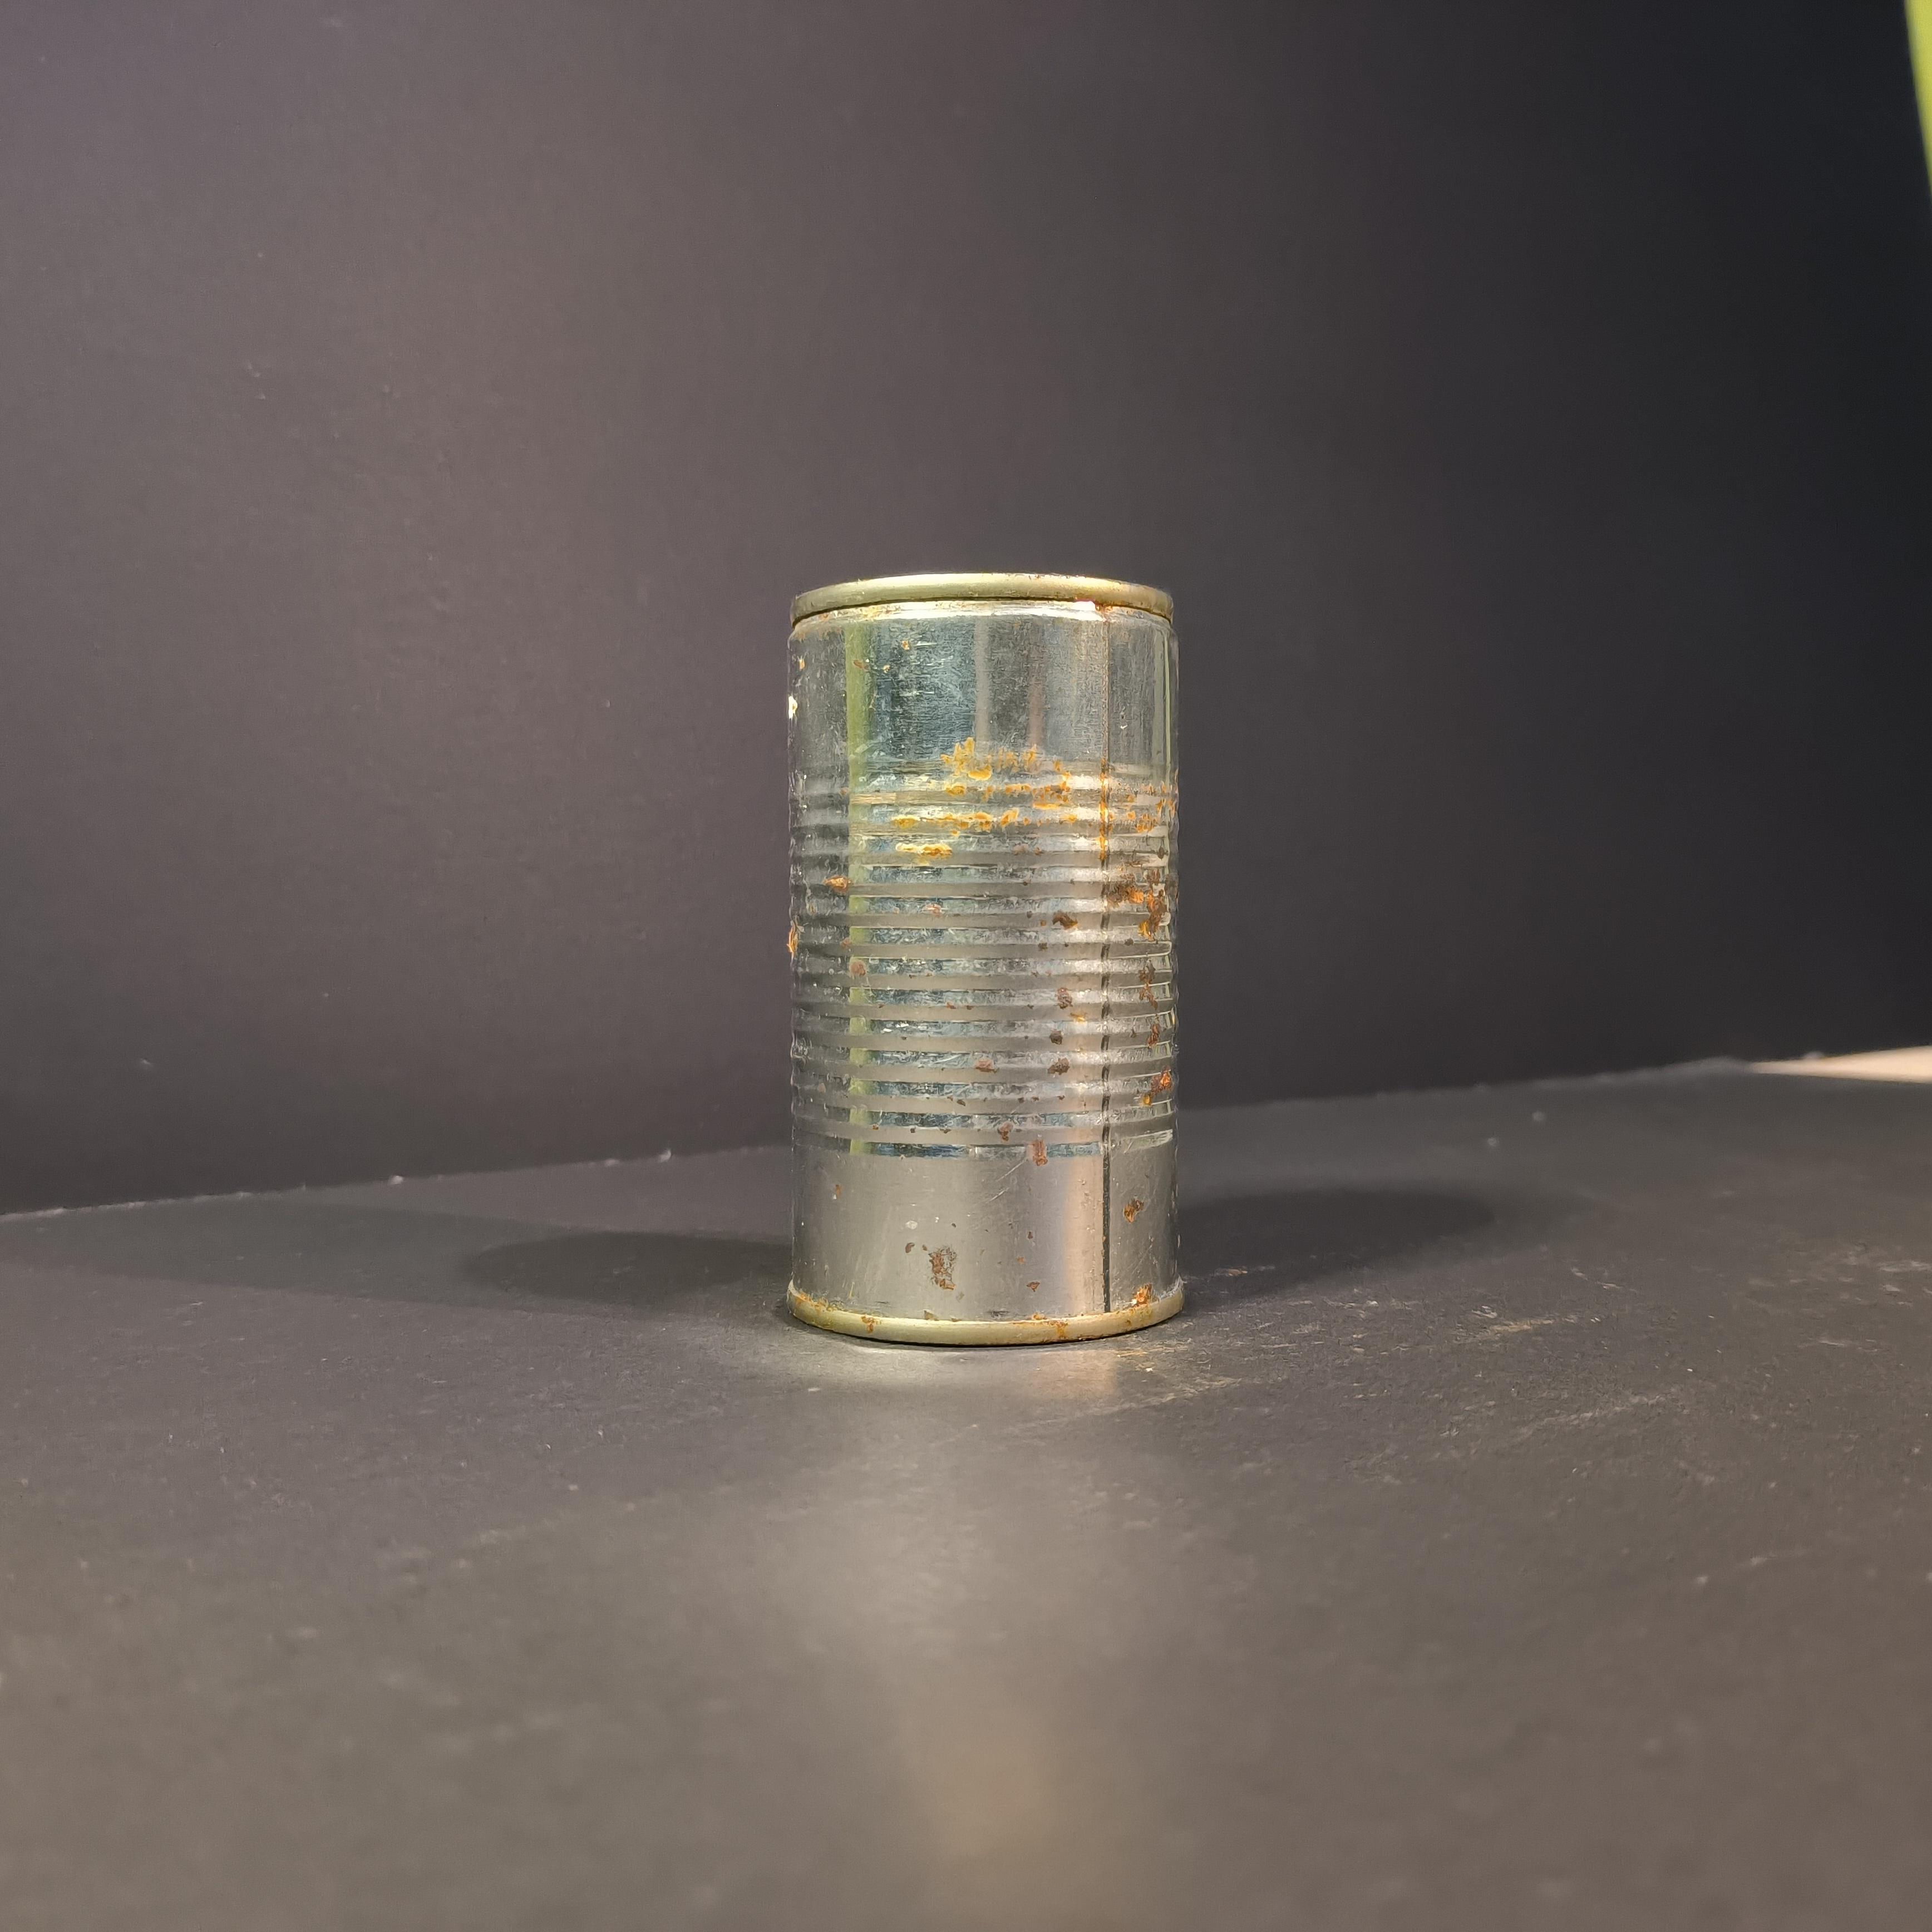Rusted: (768, 548, 1214, 1364)
